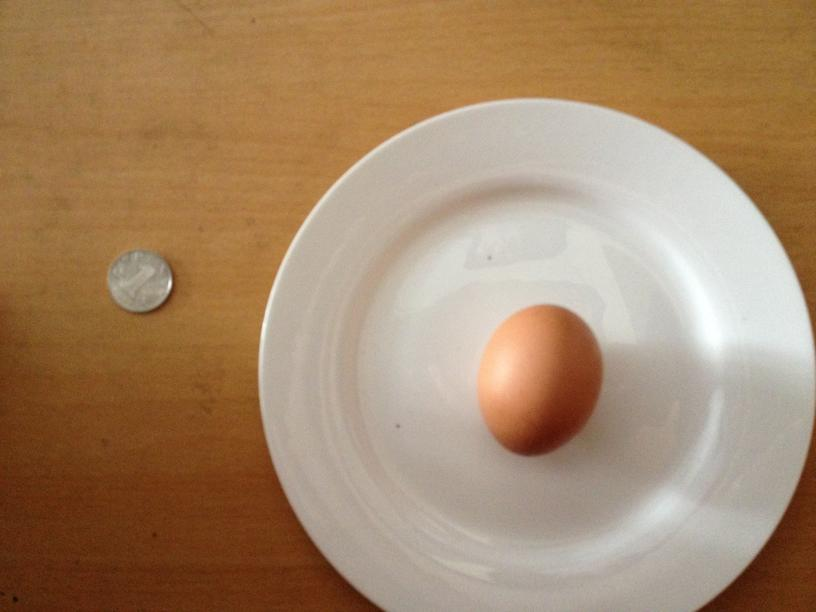coin: (105, 249, 173, 311)
egg: (472, 301, 603, 456)
